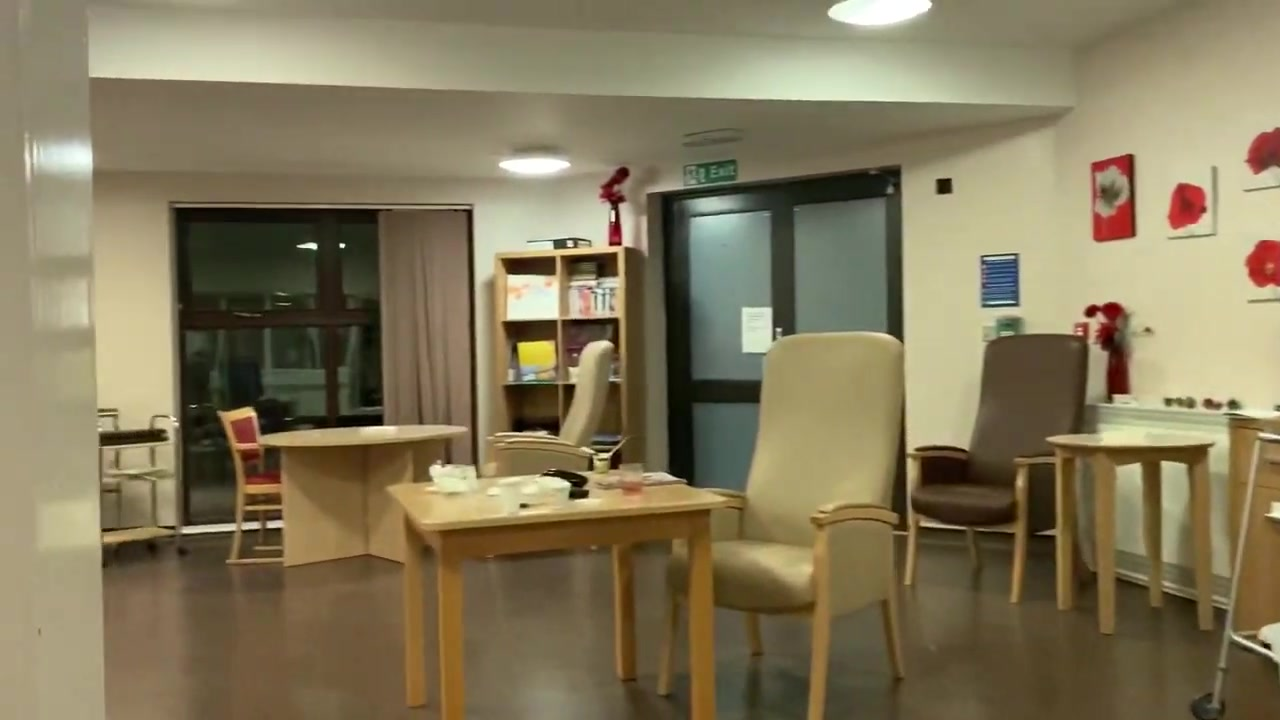cabinet: (492, 247, 648, 466)
chair: (657, 331, 907, 720), (903, 333, 1090, 603), (480, 340, 615, 476), (216, 406, 283, 564)
curtain: (377, 211, 473, 484)
handle: (1265, 454, 1280, 464)
table: (384, 469, 734, 720), (1046, 429, 1217, 634), (259, 424, 470, 567)
utility_cart: (99, 413, 188, 567)
